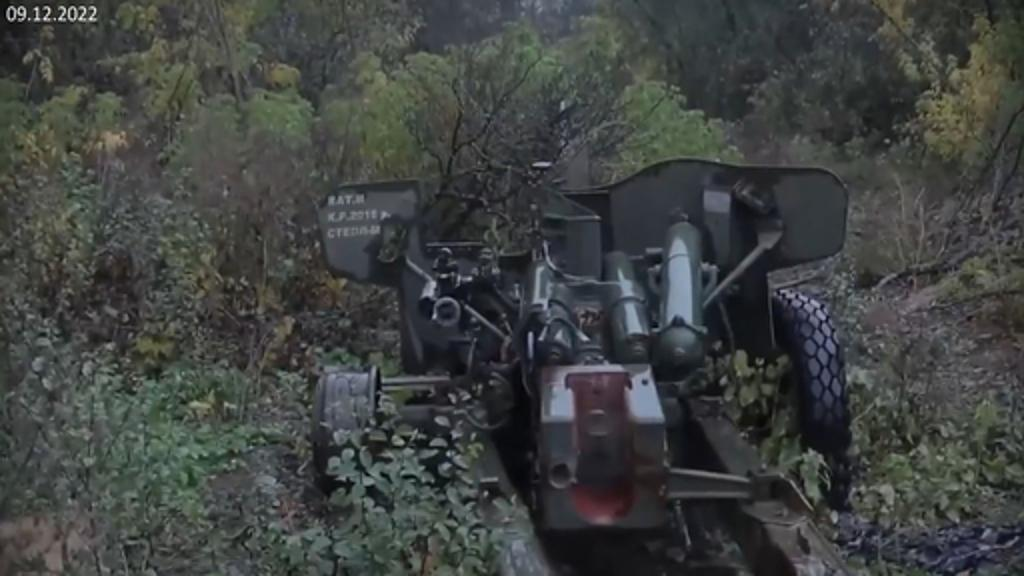ART: (306, 162, 864, 572)
